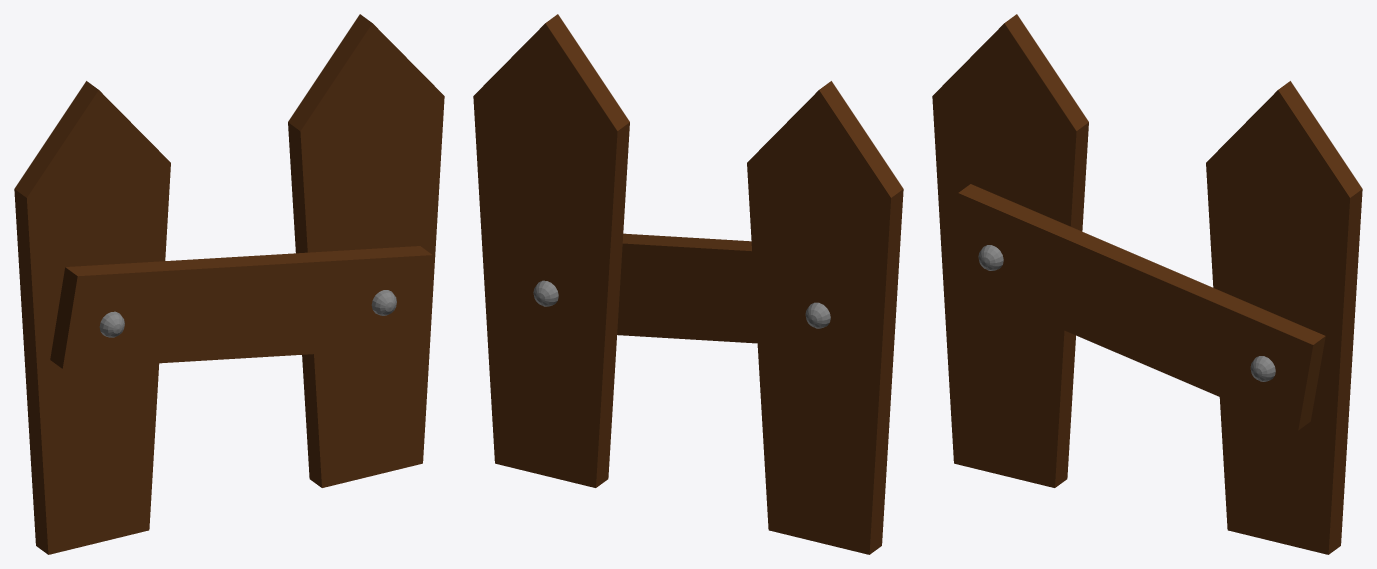
Rendered from Fence.glb.
The picture shows the model from 3 angles, left to right: view 1: azimuth 30°, elevation 25°; view 2: azimuth 150°, elevation 25°; view 3: azimuth 330°, elevation 25°; orthographic projection.
Visible parts, largest first — view 1: Fence; view 2: Fence; view 3: Fence.
Part boxes in pixels (left/top/right/bottom): Fence: left=14, top=14, right=444, bottom=554; Fence: left=473, top=14, right=903, bottom=554; Fence: left=932, top=14, right=1362, bottom=554.
Bounding box in the file's own units: 2.76 × 2.85 × 0.4416.
